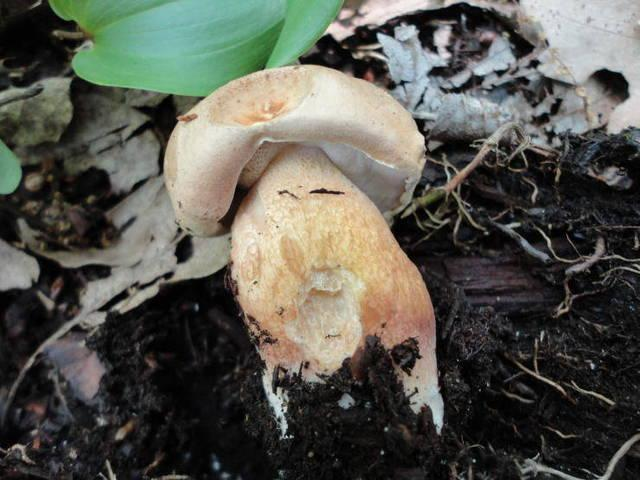poisonous_mushroom: (161, 63, 446, 447)
